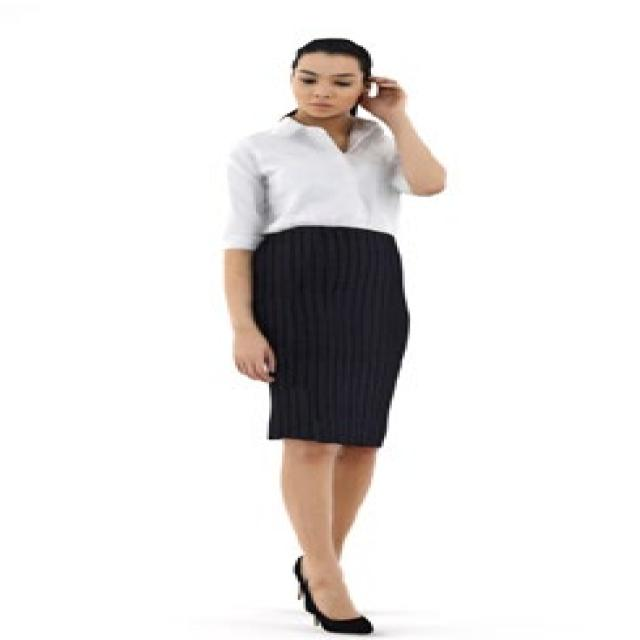standing: (221, 37, 453, 640)
